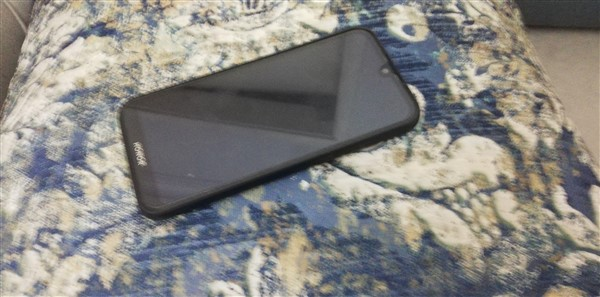telefon: (115, 26, 422, 223)
